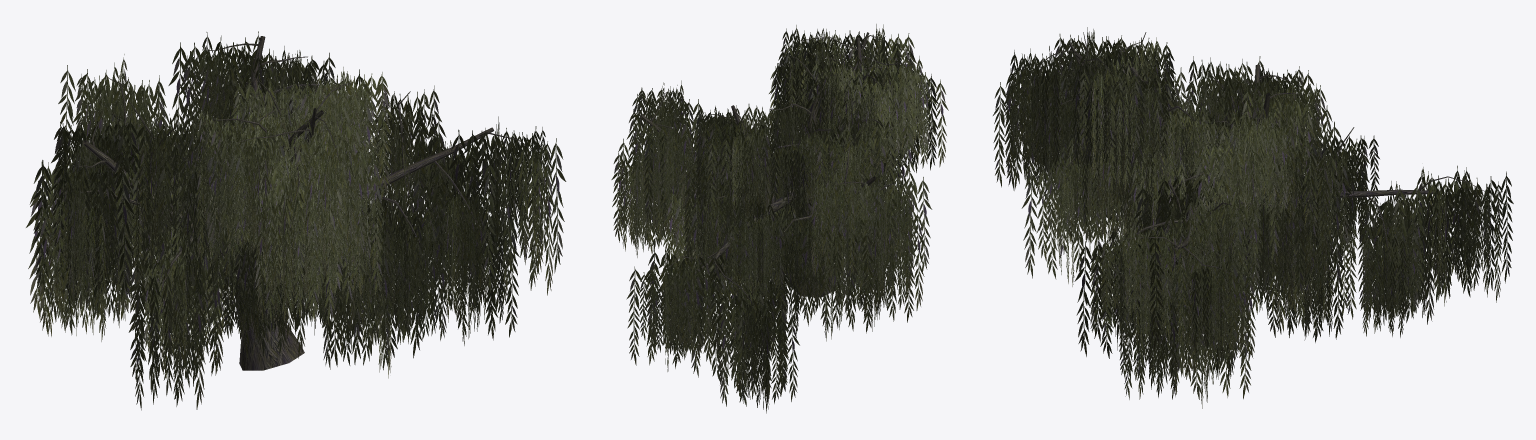
The model's file is nature-black-weeping-willow_v4.glb.
3 views of the same model, side by side, from view 1: azimuth 30°, elevation 25°; view 2: azimuth 150°, elevation 25°; view 3: azimuth 270°, elevation 25° (orthographic). The views are drawn at different scales.
Visible parts, largest first — view 1: nature-black-weeping-willow; view 2: nature-black-weeping-willow; view 3: nature-black-weeping-willow.
Boxes of the visible parts, x1,y1,x2,y2 form: nature-black-weeping-willow: (26,31,566,410); nature-black-weeping-willow: (611,24,948,413); nature-black-weeping-willow: (993,27,1513,408).
Bounding box in the file's own units: 11.36 × 8.15 × 12.97.
Materials: 2 (2 with a texture image).
